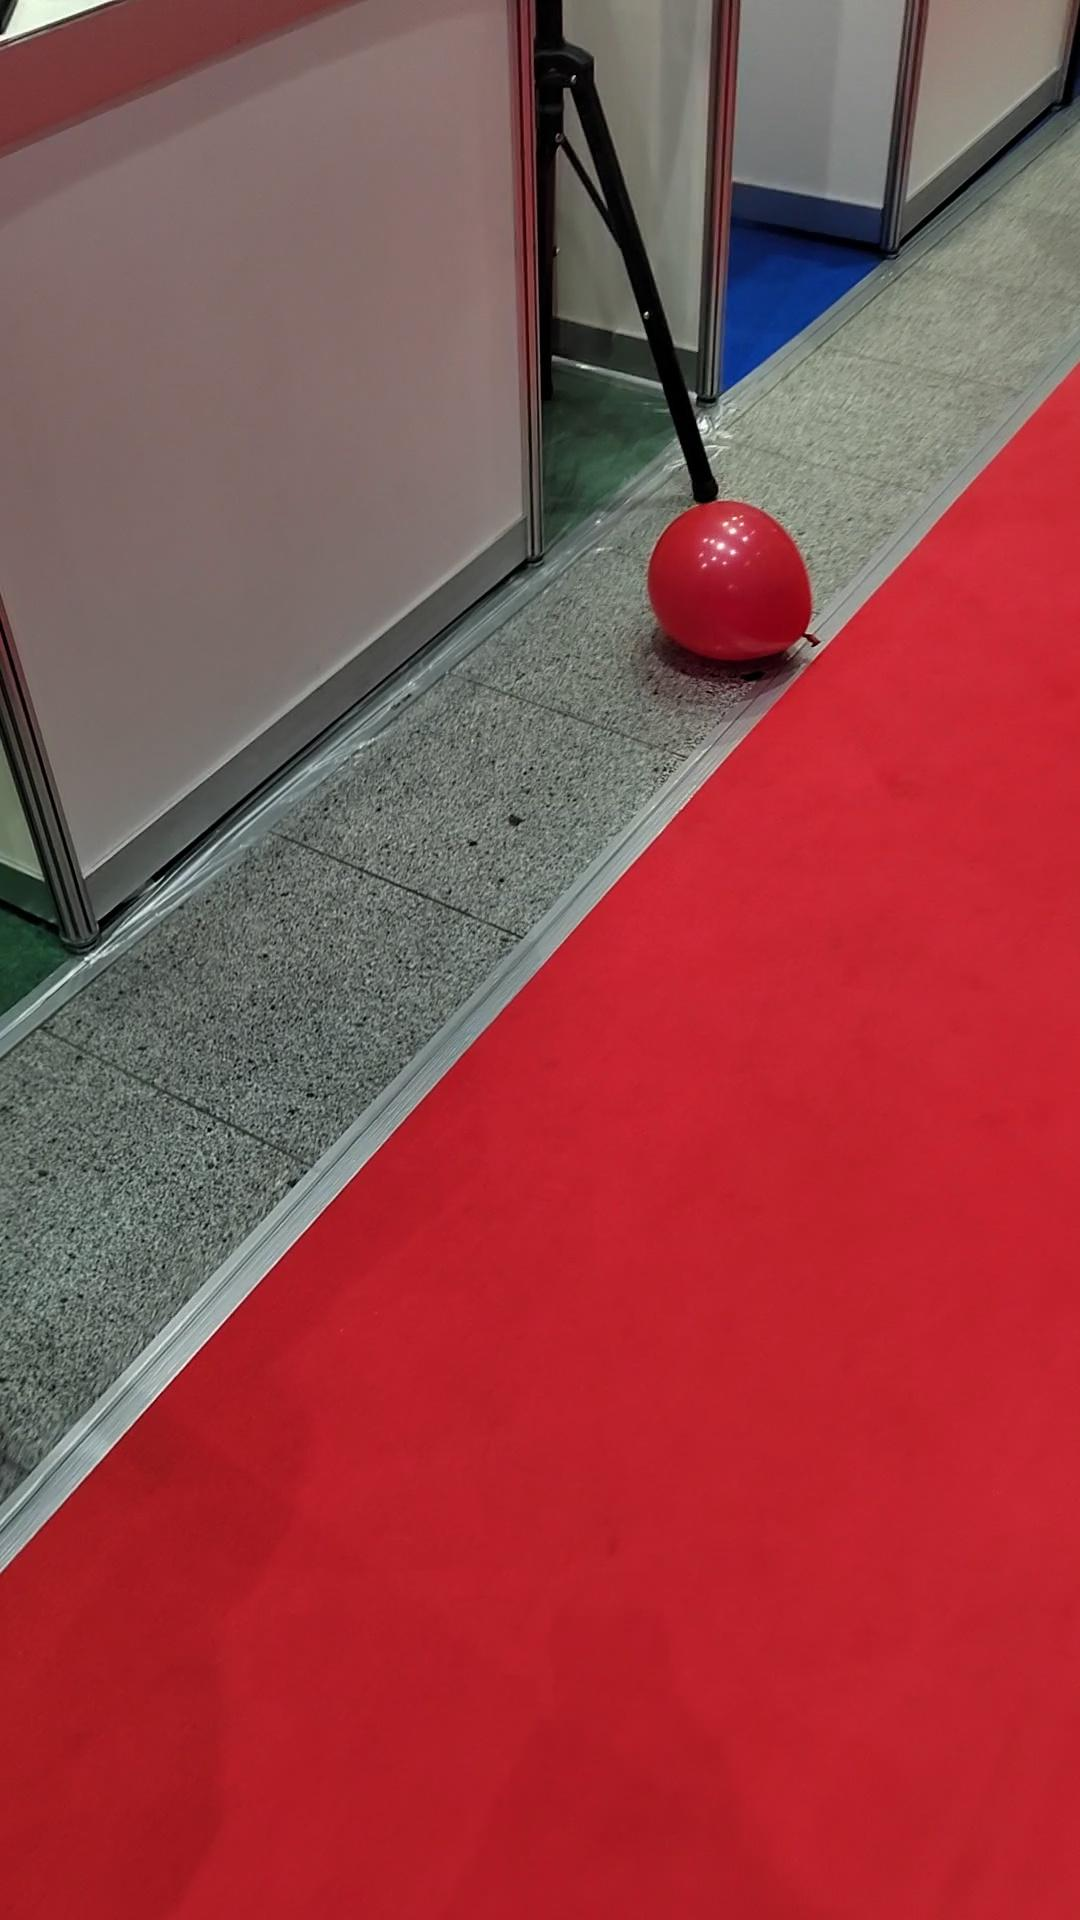red: (646, 497, 816, 678)
